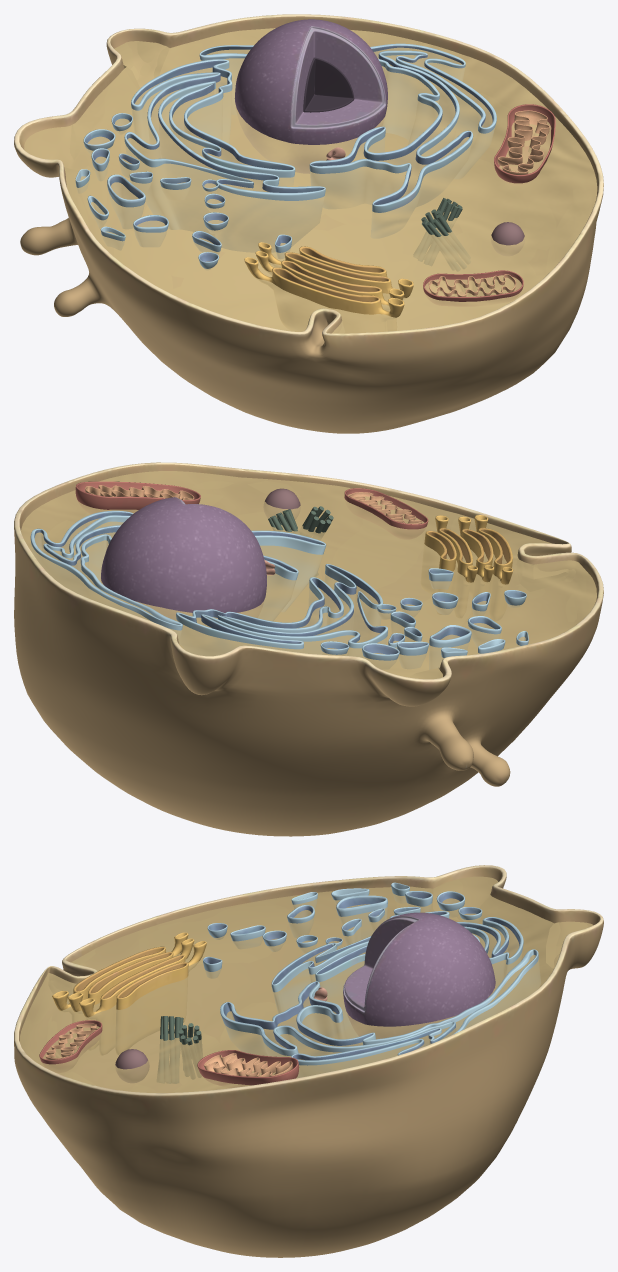
3 renders of one model, top to bottom at view 1: azimuth 30°, elevation 25°; view 2: azimuth 150°, elevation 25°; view 3: azimuth 270°, elevation 25°, orthographic. The views are drawn at different scales.
Parts seen in each view (by area): view 1: Object_6, Object_8, Object_3, Object_7, Object_5, Object_9, Object_10, Object_4; view 2: Object_8, Object_6, Object_3, Object_7, Object_5, Object_9, Object_10, Object_4; view 3: Object_8, Object_6, Object_3, Object_7, Object_5, Object_9, Object_10, Object_4.
Part boxes in pixels (box(x1,y1,x2,y2)): Object_6: box(24, 28, 597, 333); Object_8: box(14, 14, 603, 433); Object_3: box(75, 43, 496, 269); Object_7: box(234, 19, 387, 173); Object_5: box(244, 242, 413, 332); Object_9: box(423, 104, 555, 305); Object_10: box(414, 198, 468, 270); Object_4: box(491, 222, 524, 255); Object_8: box(14, 462, 603, 836); Object_6: box(21, 471, 596, 679); Object_3: box(30, 510, 528, 669); Object_7: box(101, 497, 266, 619); Object_5: box(421, 515, 513, 620); Object_9: box(75, 481, 428, 538); Object_10: box(268, 506, 333, 576); Object_4: box(264, 488, 300, 519); Object_8: box(14, 865, 603, 1257); Object_6: box(20, 876, 593, 1092); Object_3: box(203, 882, 540, 1077); Object_7: box(343, 912, 495, 1038); Object_5: box(52, 932, 206, 1054); Object_9: box(39, 1020, 299, 1087); Object_10: box(158, 1016, 202, 1083); Object_4: box(115, 1049, 149, 1082).
Bounding box in the file's own units: 57.68 × 38.53 × 63.61.
Materials: 9 (9 with a texture image).
